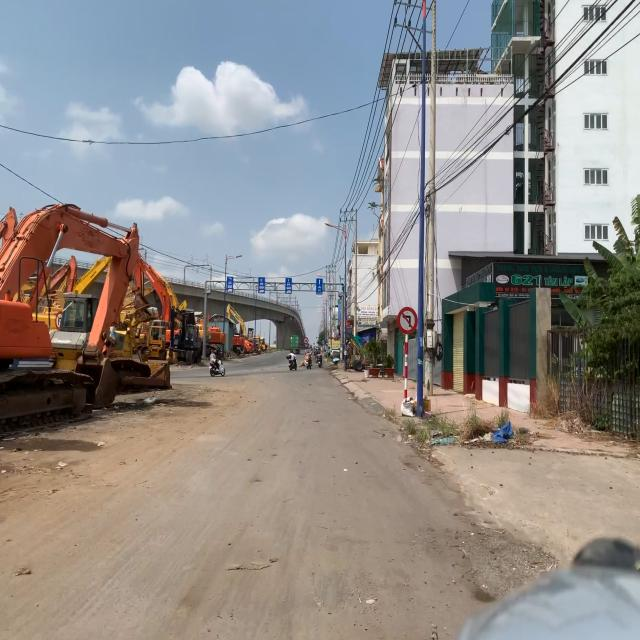Cam re trai: (396, 305, 418, 334)
